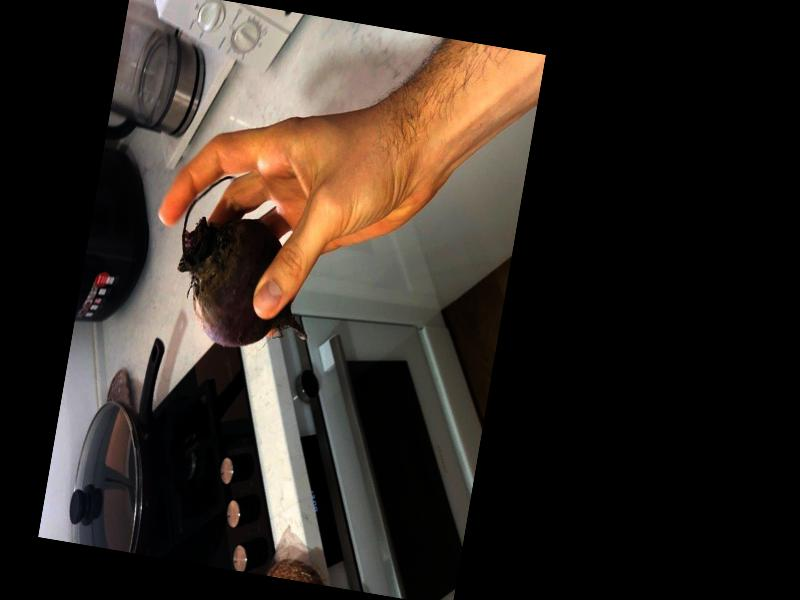Beet: (165, 172, 330, 358)
